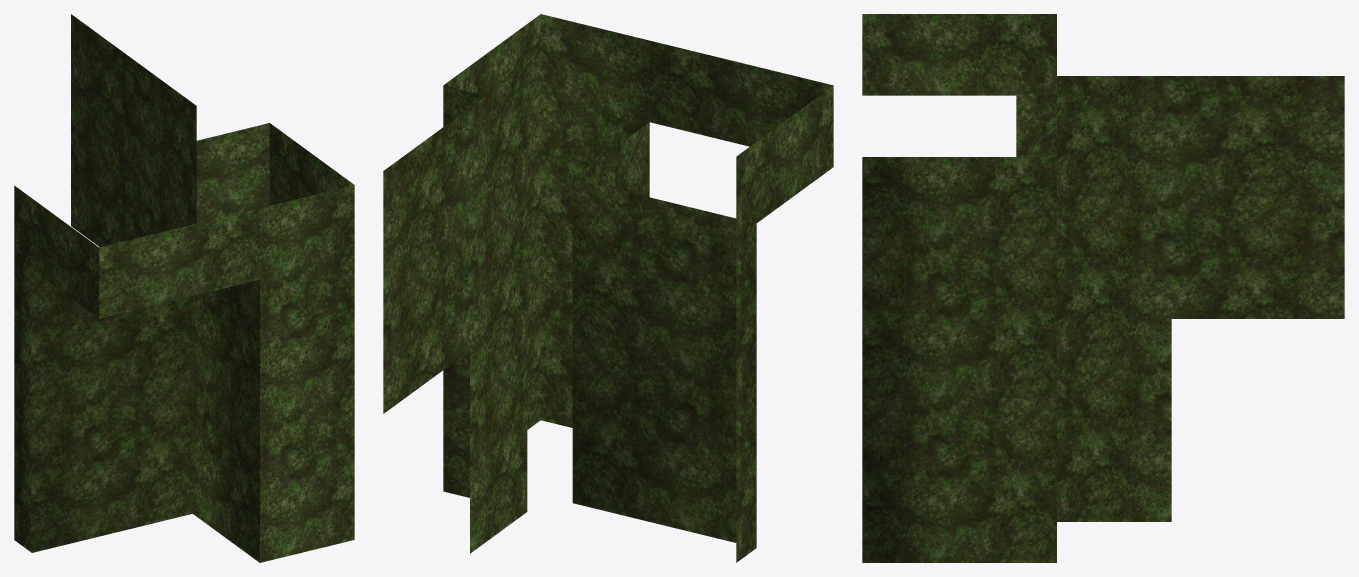
Rendered from OVERHILL_A_01_LINE148.fbx.
The picture shows the model from 3 angles, left to right: view 1: azimuth 30°, elevation 25°; view 2: azimuth 150°, elevation 25°; view 3: azimuth 270°, elevation 25°; orthographic projection. The views are drawn at different scales.
Visible parts, largest first — view 1: OVERHILL_A_01_LINE148; view 2: OVERHILL_A_01_LINE148; view 3: OVERHILL_A_01_LINE148.
Part boxes in pixels (x1,y1,x2,y2): OVERHILL_A_01_LINE148: (14, 14, 354, 562); OVERHILL_A_01_LINE148: (383, 14, 833, 562); OVERHILL_A_01_LINE148: (862, 14, 1344, 562).
Bounding box in the file's own units: 58927 × 85807 × 84084.
Materials: 1 (1 with a texture image).
